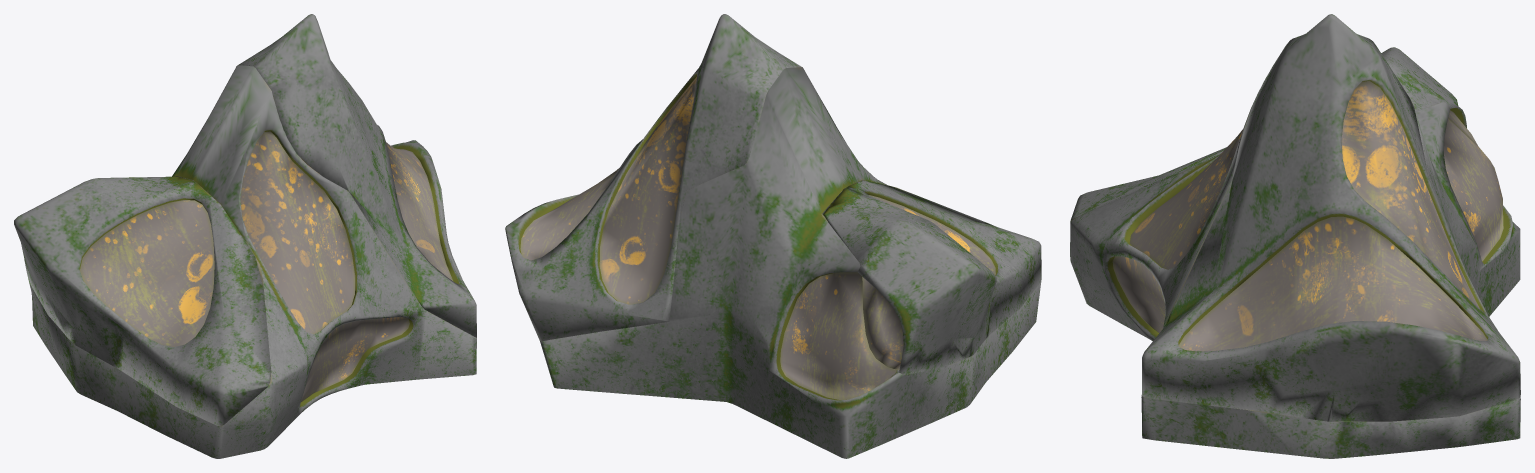
The model's file is Rock1.fbx.
3 renders of one model, left to right at view 1: azimuth 30°, elevation 25°; view 2: azimuth 150°, elevation 25°; view 3: azimuth 270°, elevation 25°, orthographic. The views are drawn at different scales.
Parts seen in each view (by area): view 1: Rock1L_down, Rock1L_up2, Rock1L_up1; view 2: Rock1L_down, Rock1L_up1, Rock1L_up2; view 3: Rock1L_up1, Rock1L_down, Rock1L_up2.
Boxes of the visible parts, x1,y1,x2,y2 form: Rock1L_down: [29, 65, 476, 458]; Rock1L_up2: [14, 176, 271, 426]; Rock1L_up1: [236, 14, 476, 337]; Rock1L_down: [540, 67, 1041, 458]; Rock1L_up1: [505, 14, 804, 341]; Rock1L_up2: [822, 180, 1041, 375]; Rock1L_up1: [1142, 14, 1520, 421]; Rock1L_down: [1070, 77, 1520, 458]; Rock1L_up2: [1070, 47, 1478, 221].
Size of the model in its own units: 302 by 217 by 235.
